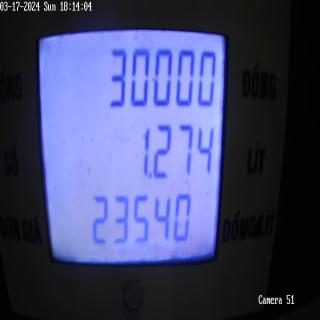screen: (32, 4, 233, 297)
